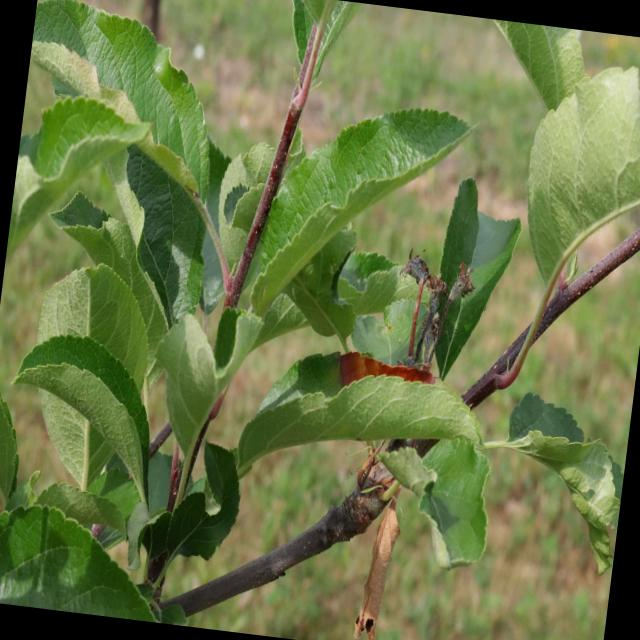-FireBlight-: (348, 456, 404, 640)
